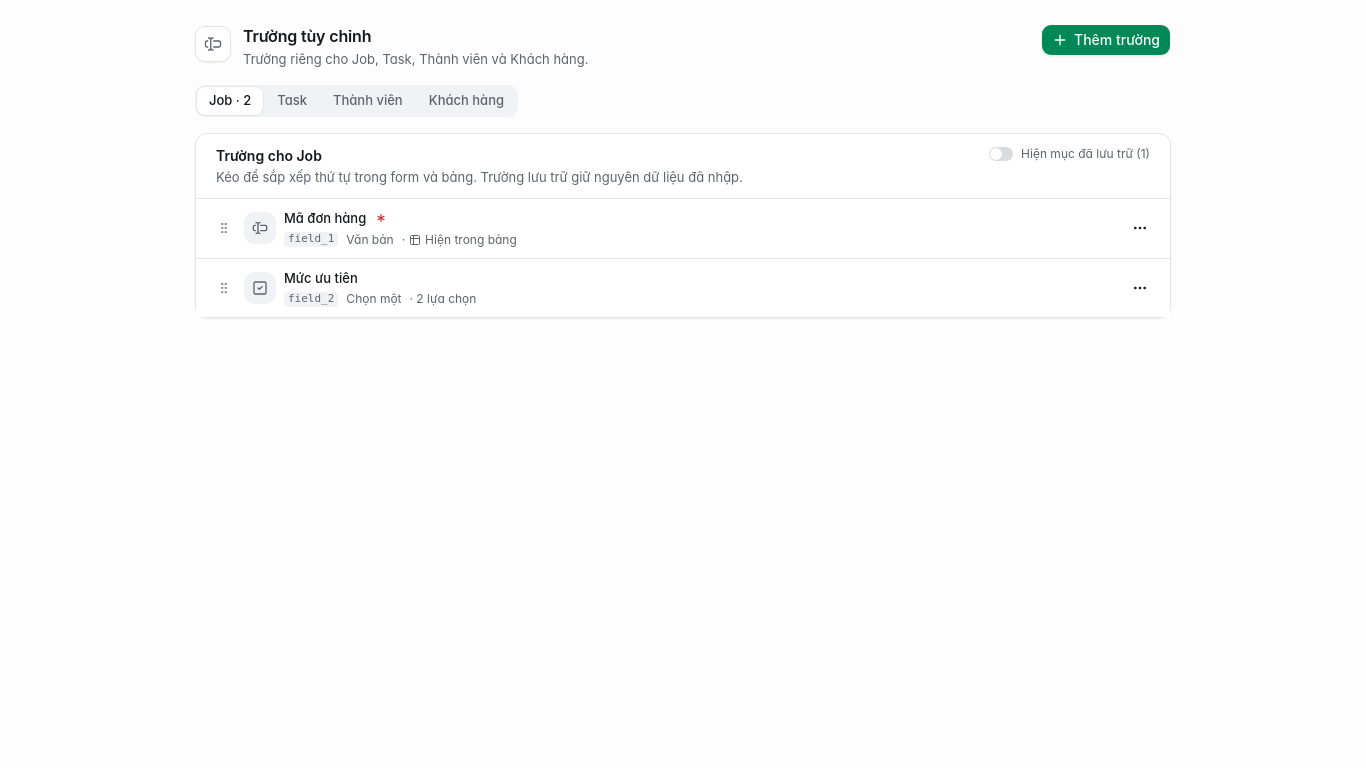
Scenario: Cấu hình → Trường tùy chỉnh (PD-050) › the superadmin adds, drags, edits and archives
Expected: the list named "Trường đang dùng của Job" is shown, [196,199,1170,317]
Expected: the button "Thêm trường" is shown, [1041,24,1171,56]
Click the button "Mã đơn hàng field_1 Văn bản · Hiện trong bảng".
click(325, 218)  # box [284,209,1118,248]
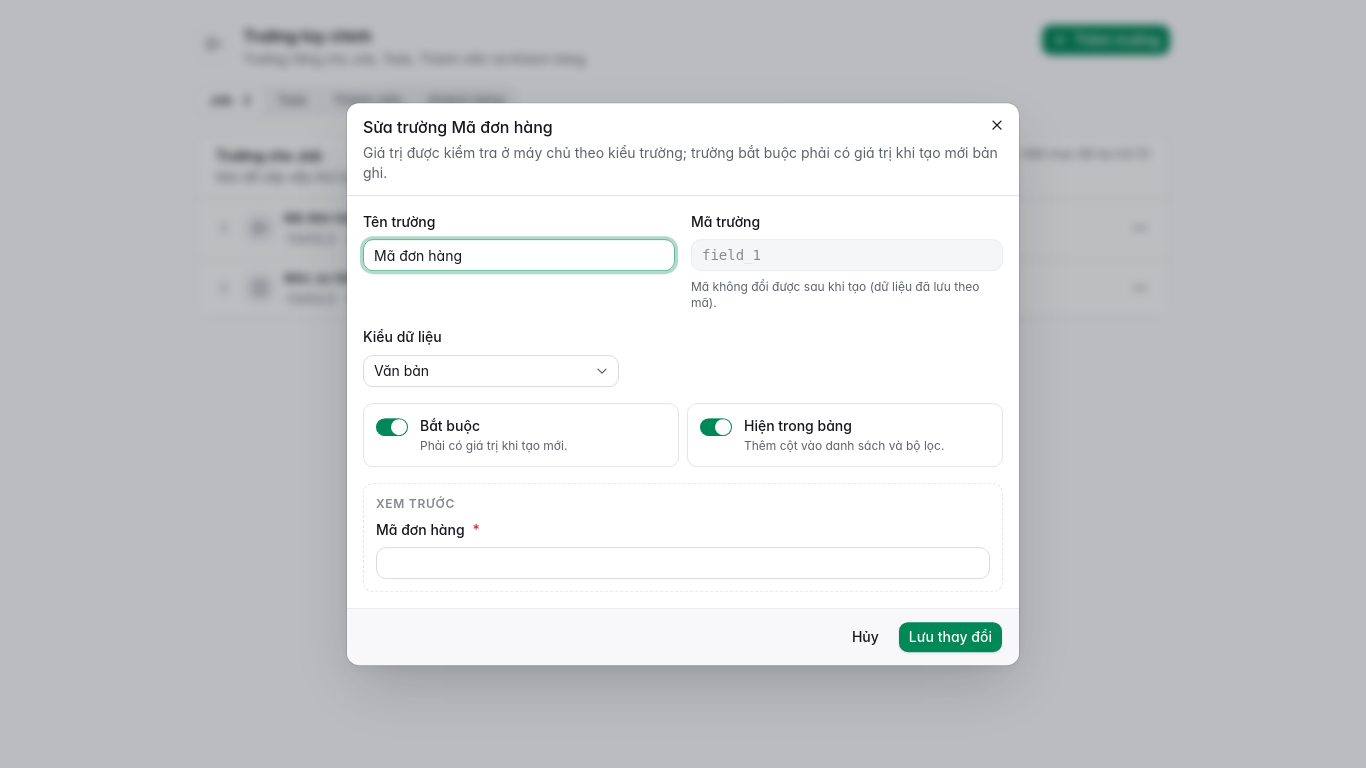
Result: the dialog "Sửa trường Mã đơn hàng" is shown at [347,103,1019,665]
